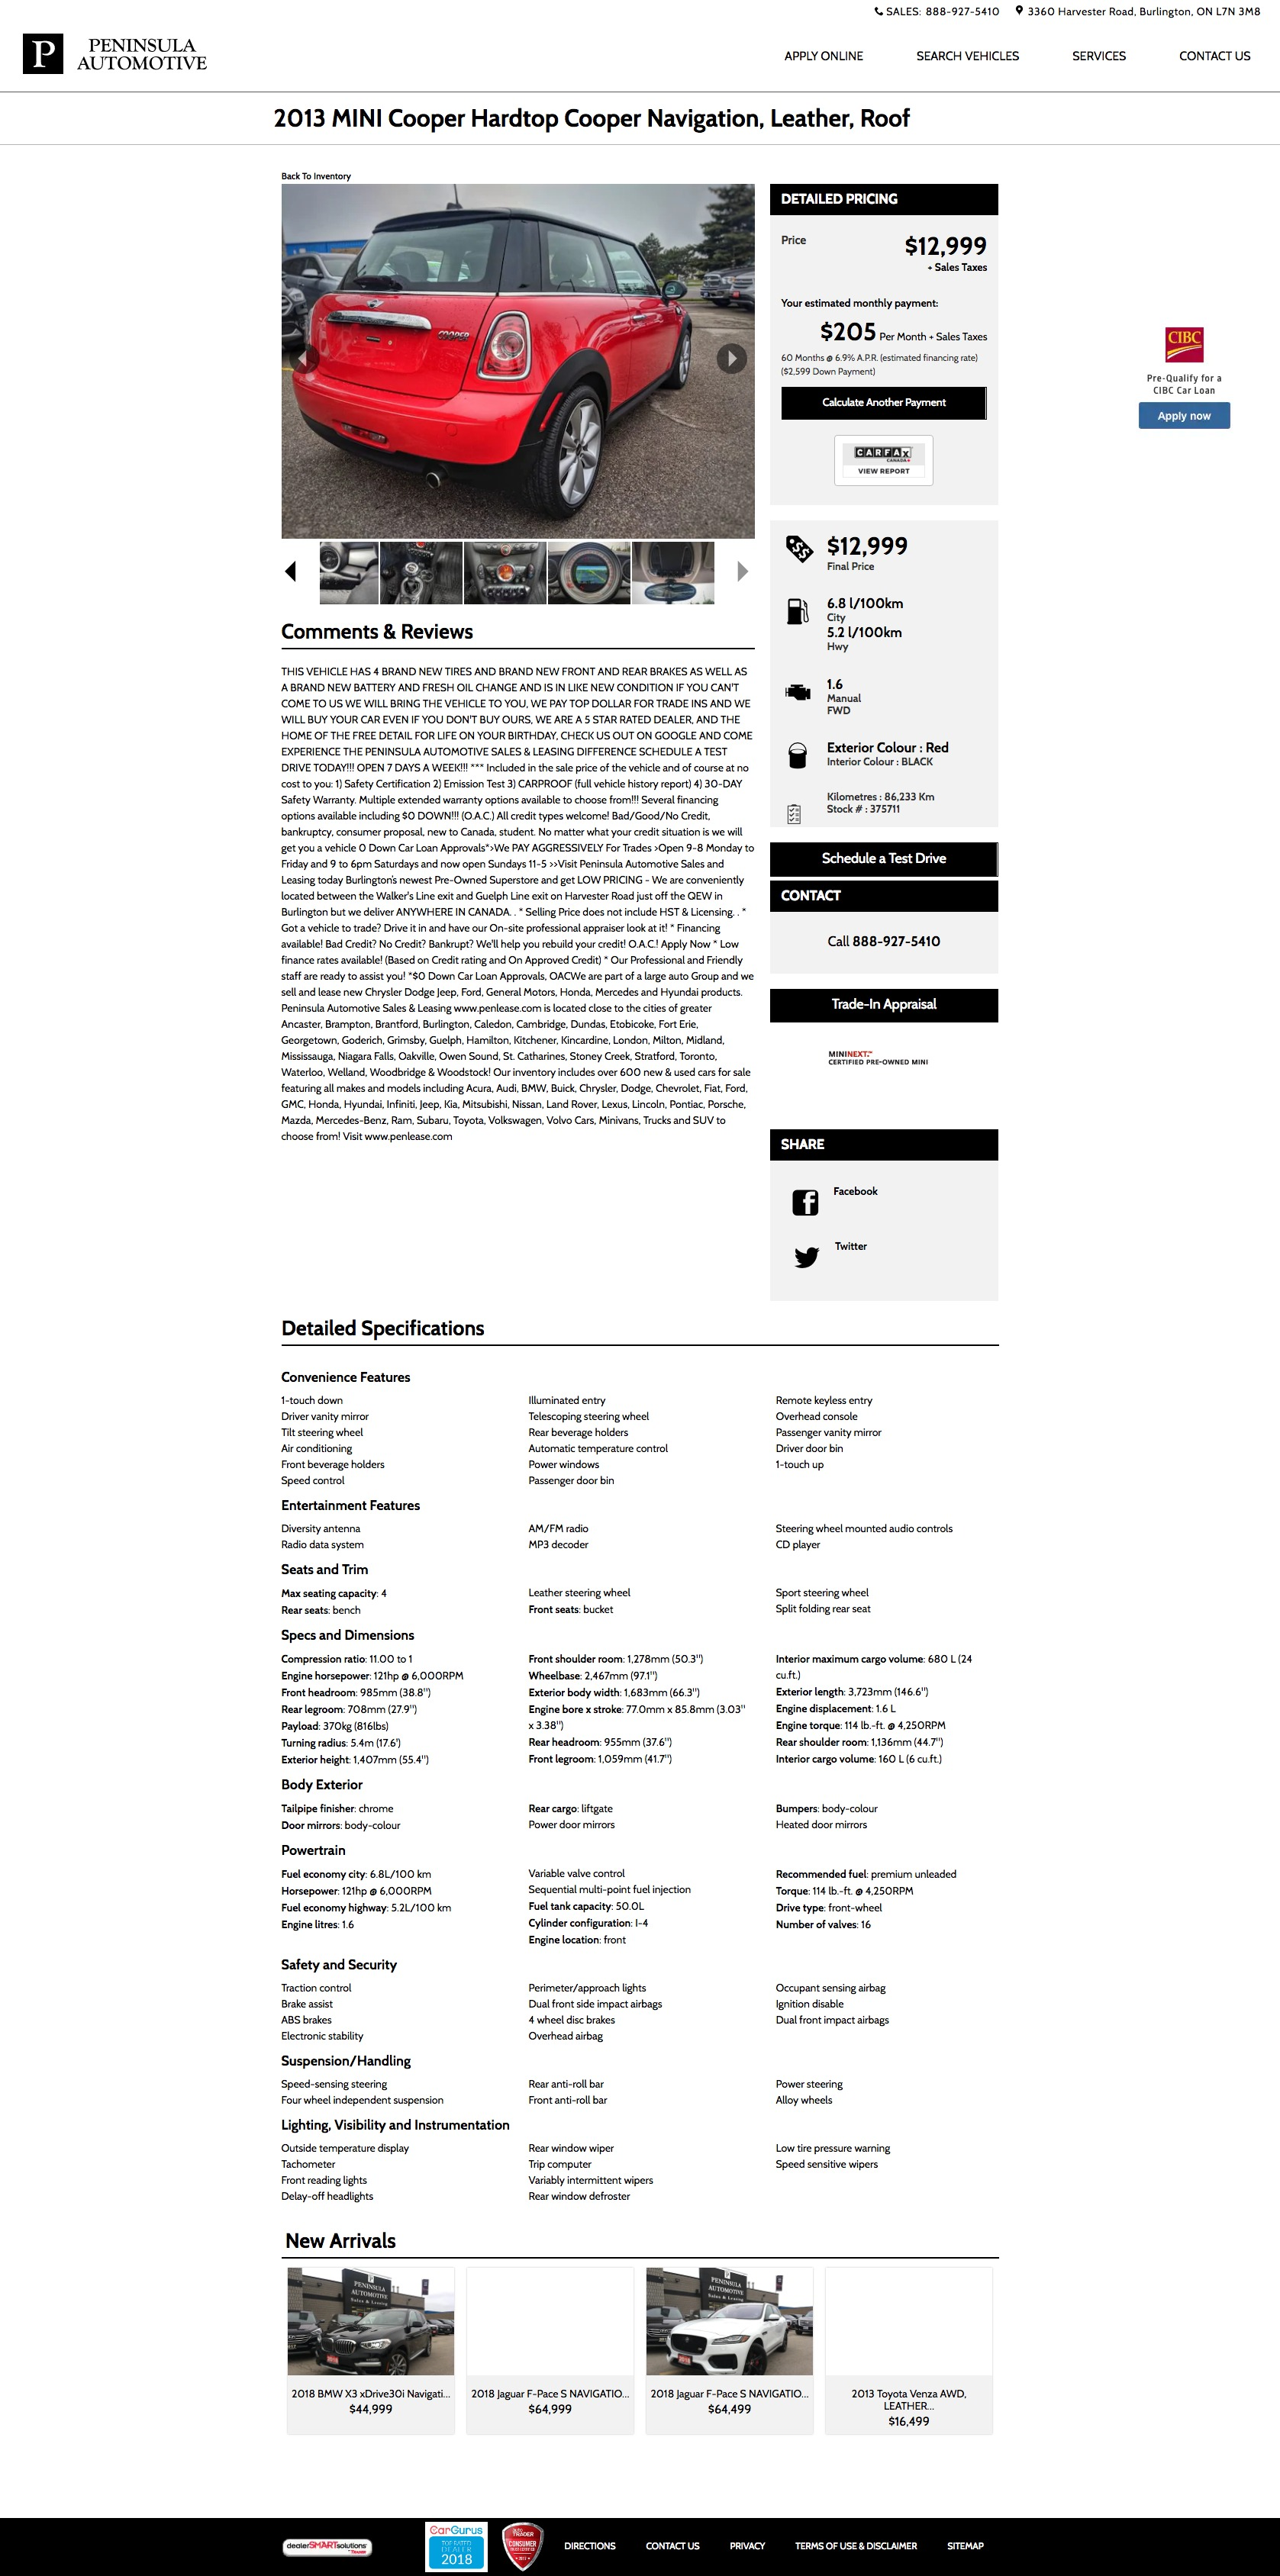car: (738, 560, 749, 583)
